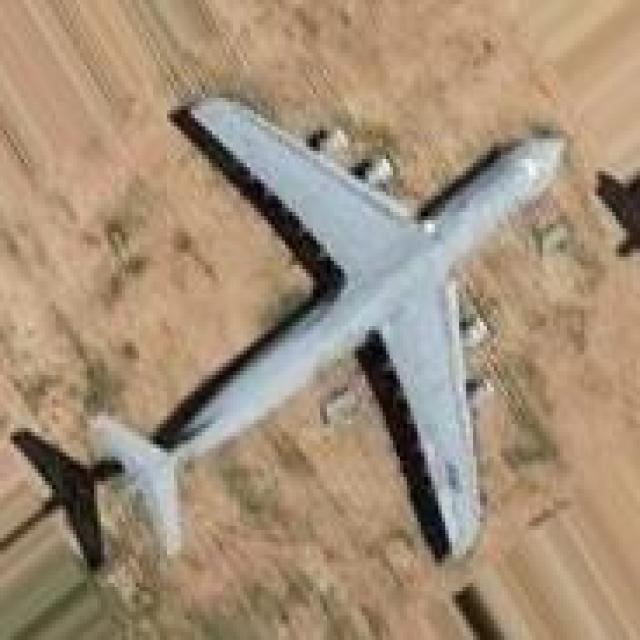C-5_TopDown: (0, 87, 571, 579)
